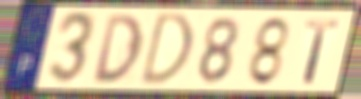3: (47, 8, 97, 88)
8: (247, 15, 291, 87), (197, 15, 241, 86)
D: (137, 11, 195, 88), (92, 13, 145, 86)
T: (301, 18, 342, 85)
